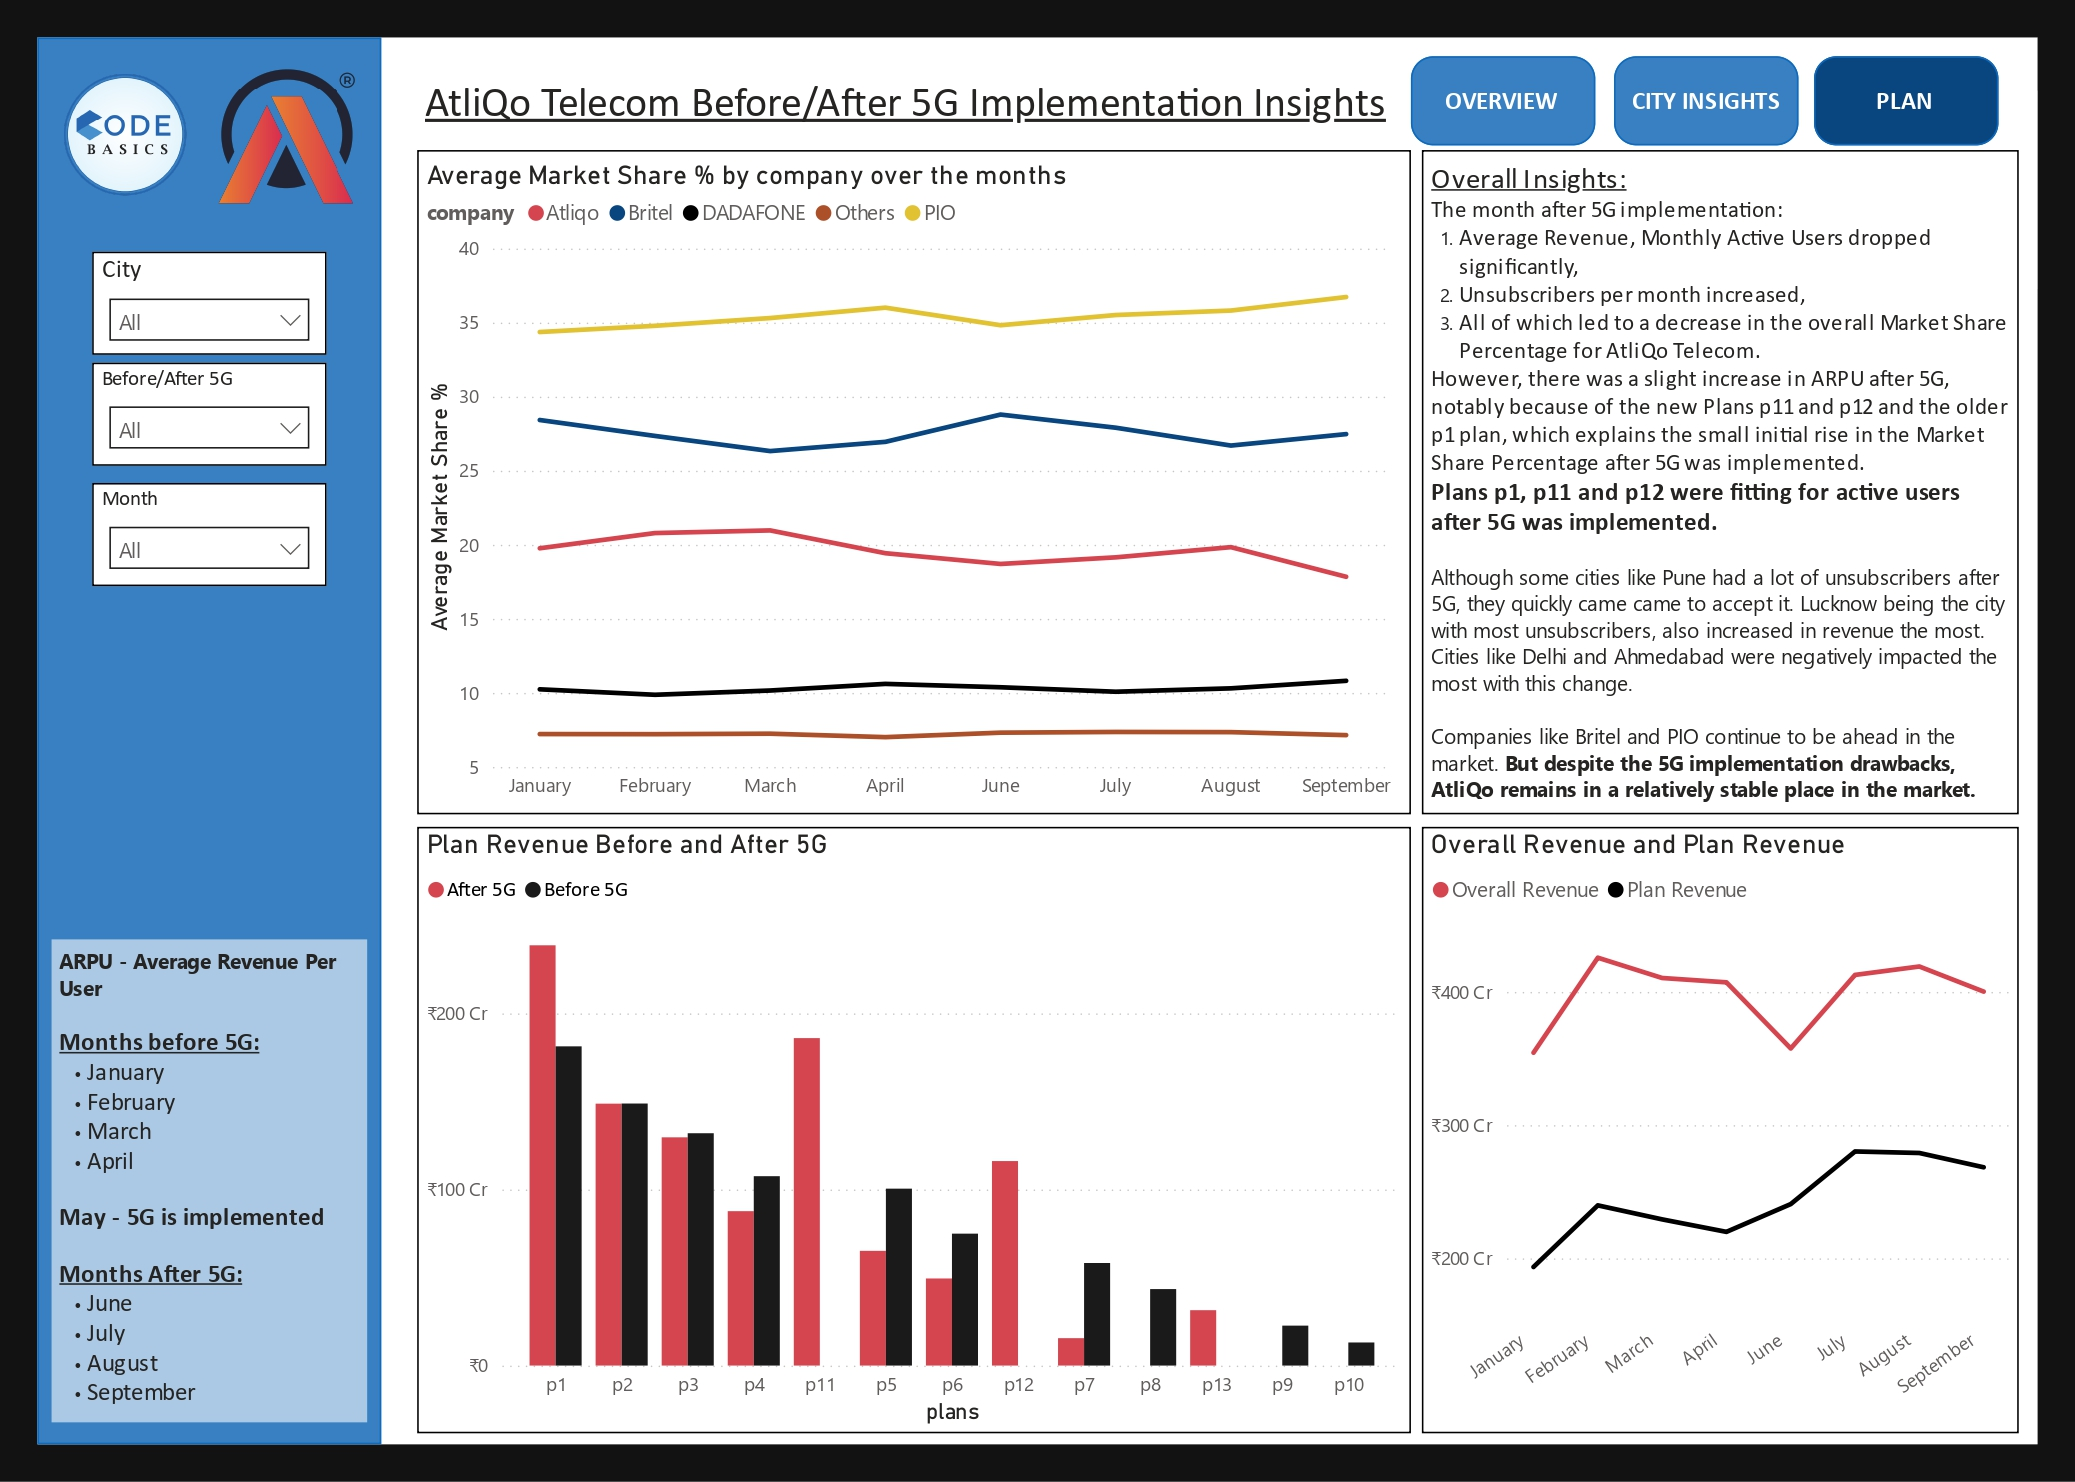

Layout of this report page (visuals, bound fields, positions):
{"tool":"powerbi","page":{"name":"Plan","canvas":[1280,900],"ordinal":2},"visuals":[{"type":"lineChart","title":"Average Market Share % by company over the months","fields":{"Y":["Key_Measures.Average Market Share %"],"Series":["fact_market_share.company"],"Category":["dim_date.date.Variation.Date Hierarchy.Month"]},"box":[243,72,636,425],"z":0},{"type":"shape","box":[0,0,220,900],"z":1000},{"type":"image","box":[110,11.8,100.9,100],"z":2000},{"type":"image","box":[9.1,11.8,93.6,100],"z":3000},{"type":"shape","box":[879,12,118,57],"z":4000},{"type":"textbox","box":[877,26,120,29],"z":5000},{"type":"shape","box":[1009,12,118,57],"z":6000},{"type":"textbox","box":[1008,26,120,30],"z":7000},{"type":"shape","box":[1137,12,118,57],"z":8000},{"type":"textbox","box":[1135,26,120,30],"z":9000},{"type":"textbox","box":[243,20,634,42],"z":10000},{"type":"slicer","title":"City","fields":{"Values":["dim_cities.city_name"]},"box":[34.5,137.3,150,65.5],"z":11000},{"type":"slicer","title":"Before/After 5G","fields":{"Values":["dim_date.before/after_5g"]},"box":[34.5,208.2,150,65.5],"z":12000},{"type":"slicer","title":"Month","fields":{"Values":["dim_date.date.Variation.Date Hierarchy.Month"]},"box":[34.5,284.5,150,66.4],"z":13000},{"type":"clusteredColumnChart","title":"Plan Revenue Before and After 5G","fields":{"Category":["fact_plan_revenue.plans"],"Y":["Sum(fact_plan_revenue.plan_revenue_crores)"],"Series":["dim_date.before/after_5g"]},"box":[243,505,636,388],"z":14000},{"type":"lineChart","title":"Overall Revenue and Plan Revenue","fields":{"Category":["dim_date.date.Variation.Date Hierarchy.Month"],"Y":["Sum(fact_atliqo_metrics.atliqo_revenue_crores)","Sum(fact_plan_revenue.plan_revenue_crores)"]},"box":[886,505,382,388],"z":15000},{"type":"textbox","box":[9.2,576.7,201.7,309.2],"z":16000},{"type":"textbox","box":[885.8,71.7,381.7,425],"z":17000}]}

Visuals, with their boxes on the page's 1280x900 design canvas (x1, y1, x2, y2). These are canvas units, not pixel positions in the 2075x1482 screenshot, which may show the page scaled, cropped or inside an application window:
"Average Market Share % by company over the months" lineChart: 243/72/879/497
shape: 0/0/220/900
image: 110/12/211/112
image: 9/12/103/112
shape: 879/12/997/69
textbox: 877/26/997/55
shape: 1009/12/1127/69
textbox: 1008/26/1128/56
shape: 1137/12/1255/69
textbox: 1135/26/1255/56
textbox: 243/20/877/62
"City" slicer: 34/137/184/203
"Before/After 5G" slicer: 34/208/184/274
"Month" slicer: 34/284/184/351
"Plan Revenue Before and After 5G" clusteredColumnChart: 243/505/879/893
"Overall Revenue and Plan Revenue" lineChart: 886/505/1268/893
textbox: 9/577/211/886
textbox: 886/72/1268/497
